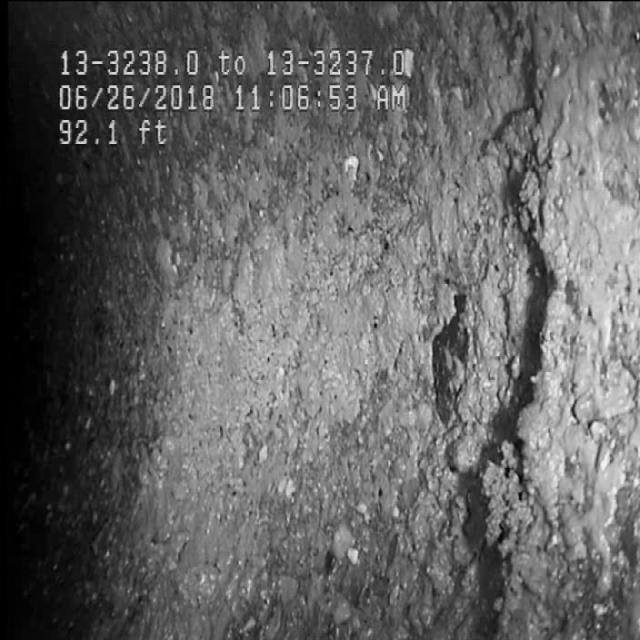Fracture: (457, 126, 571, 608)
